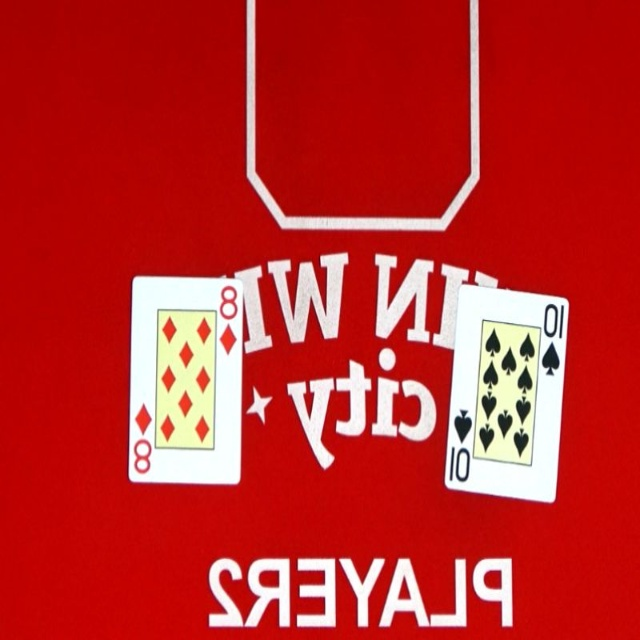10S: (446, 409, 474, 489), (540, 301, 568, 381)
8D: (214, 279, 243, 361), (130, 402, 155, 475)
